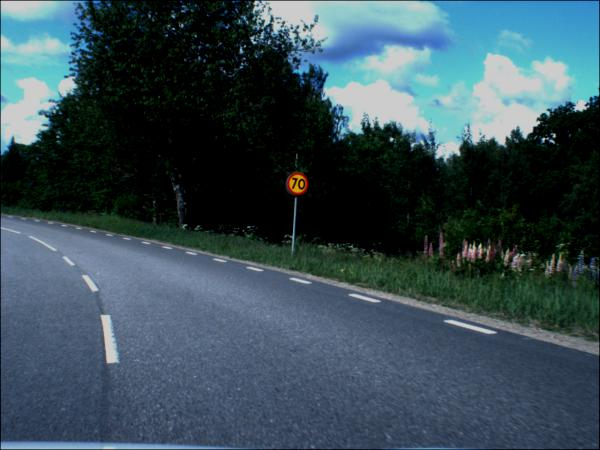70_SIGN: (288, 173, 309, 196)
